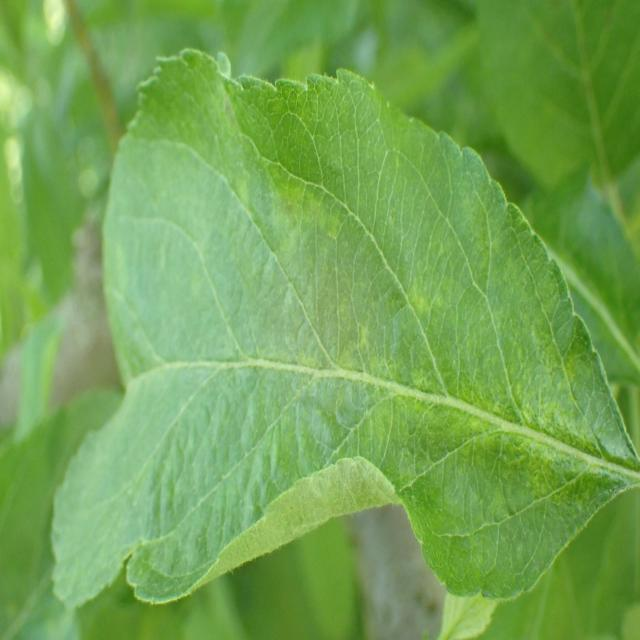scab: (115, 112, 541, 590)
